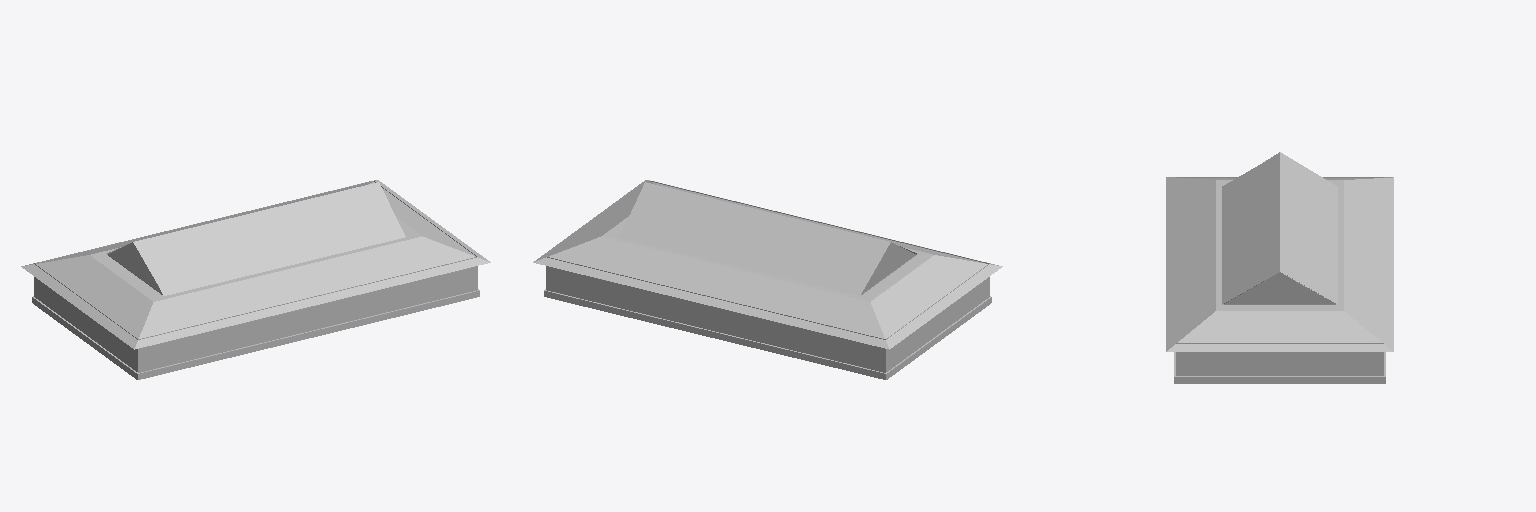
The model's file is sanctuary.obj.
The picture shows the model from 3 angles: view 1: azimuth 30°, elevation 25°; view 2: azimuth 150°, elevation 25°; view 3: azimuth 270°, elevation 25°; orthographic projection.
Visible parts, largest first — view 1: Cube, Cube.001; view 2: Cube, Cube.001; view 3: Cube, Cube.001.
Boxes of the visible parts, x1=… form: Cube: x1=21, y1=180, x2=490, y2=379; Cube.001: x1=34, y1=181, x2=477, y2=372; Cube: x1=533, y1=180, x2=1002, y2=379; Cube.001: x1=546, y1=181, x2=989, y2=372; Cube: x1=1166, y1=152, x2=1393, y2=383; Cube.001: x1=1176, y1=177, x2=1383, y2=375.
Bounding box in the file's own units: 3.9 × 0.9189 × 2.15.